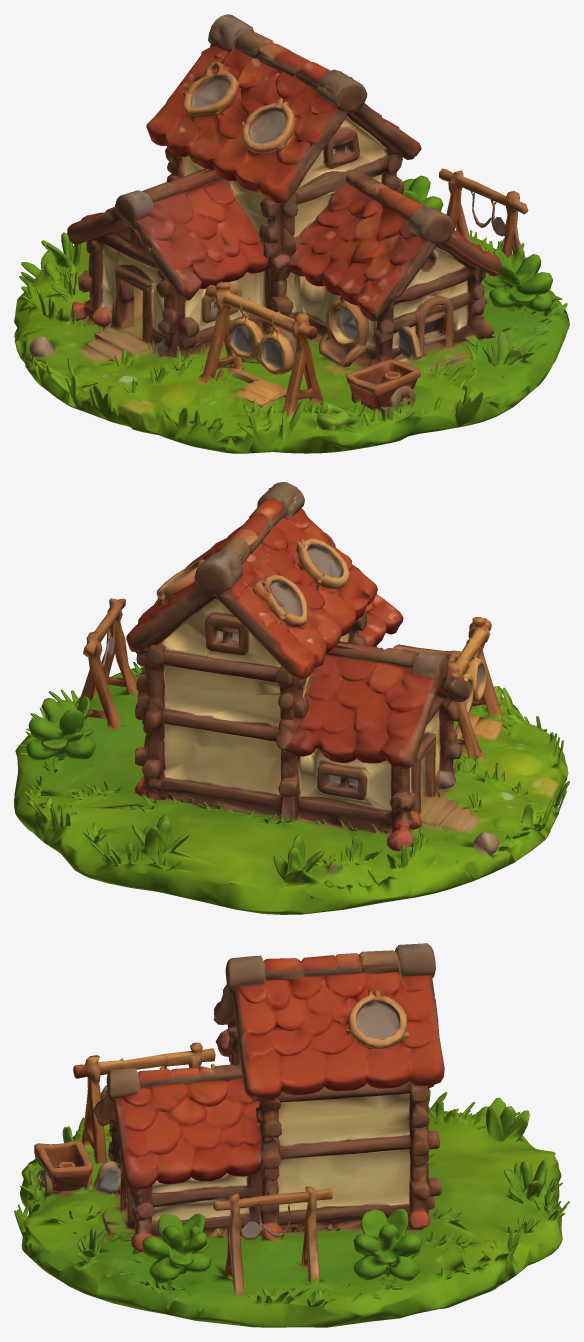
The model's file is bilgoraj.glb.
3 views of the same model, one above another, from view 1: azimuth 30°, elevation 25°; view 2: azimuth 150°, elevation 25°; view 3: azimuth 270°, elevation 25° (orthographic). The views are drawn at different scales.
Visible parts, largest first — view 1: tripo_node_b32138c8-e4b6-4be3-a44d-68bddc5f9cb2; view 2: tripo_node_b32138c8-e4b6-4be3-a44d-68bddc5f9cb2; view 3: tripo_node_b32138c8-e4b6-4be3-a44d-68bddc5f9cb2.
Part boxes in pixels (bbox=[...]): tripo_node_b32138c8-e4b6-4be3-a44d-68bddc5f9cb2: bbox=[14, 14, 569, 453]; tripo_node_b32138c8-e4b6-4be3-a44d-68bddc5f9cb2: bbox=[14, 482, 569, 914]; tripo_node_b32138c8-e4b6-4be3-a44d-68bddc5f9cb2: bbox=[14, 943, 569, 1327].
Size of the model in its own units: 0.9782 by 0.5409 by 0.9817.
Materials: 1 (1 with a texture image).
